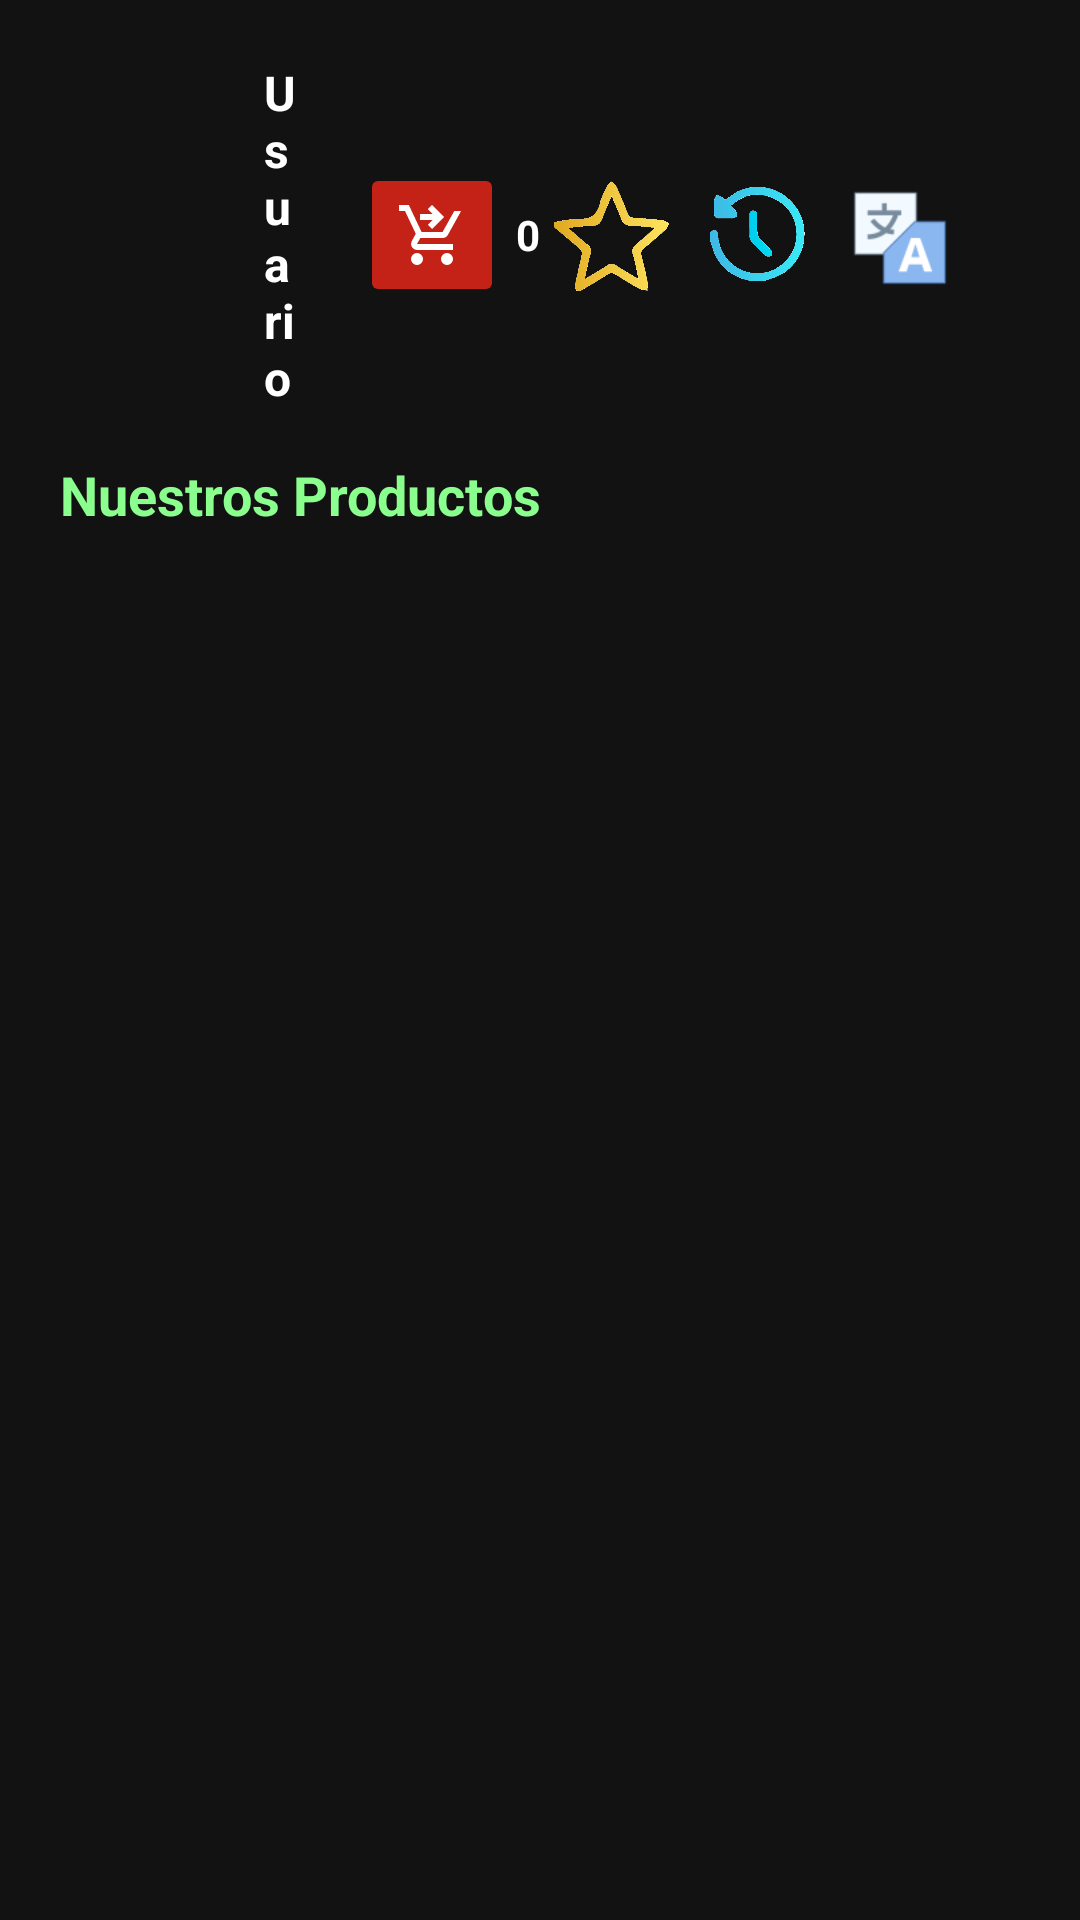

Icons on this 1080w x 1920h Android screen, each with its box as (x1, y1, x2, y2):
Change Language: (854, 192, 946, 284)
Ver carrito: (372, 181, 492, 289)
Ver favoritos: (554, 181, 669, 291)
Ver historial de compras: (710, 187, 805, 281)
